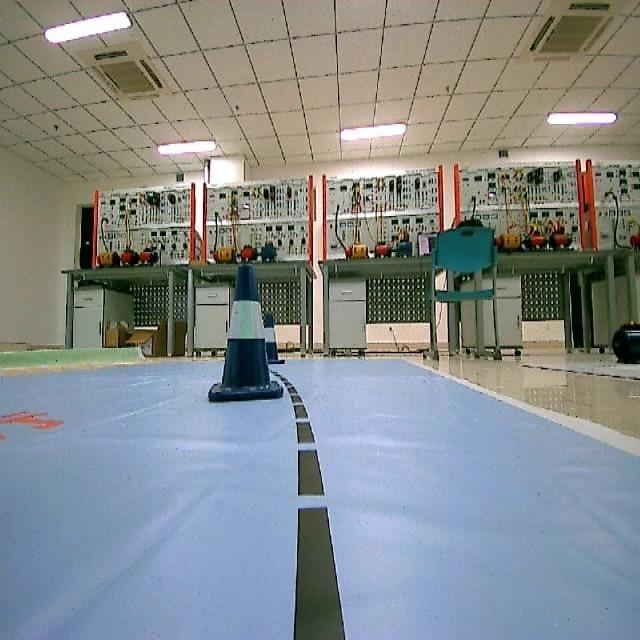obstacle: (208, 262, 286, 406)
